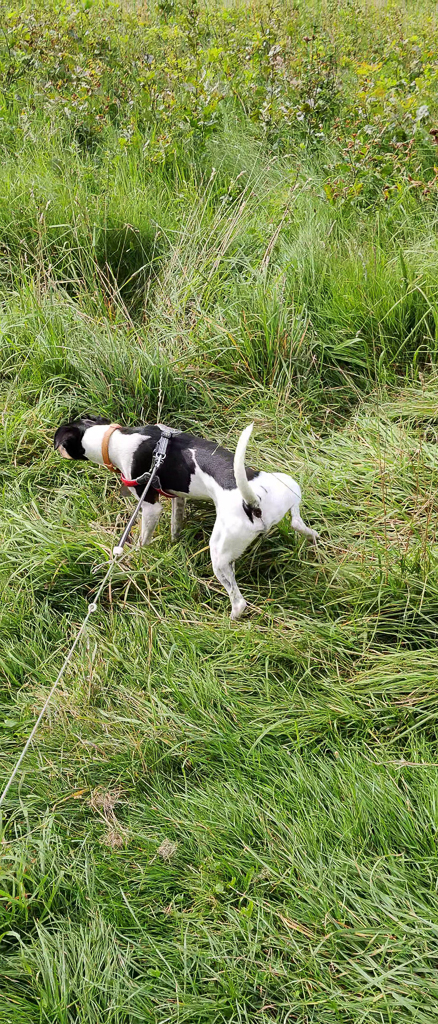Dog: (43, 399, 332, 628)
